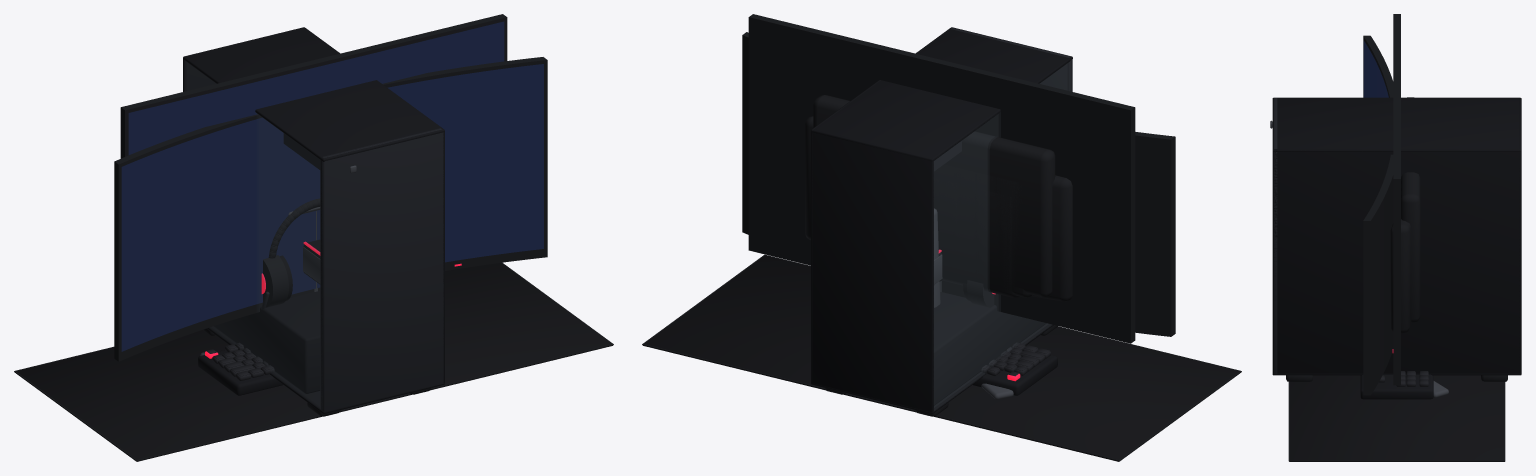
File: setup.glb
3 views of the same model, side by side, from view 1: azimuth 30°, elevation 25°; view 2: azimuth 150°, elevation 25°; view 3: azimuth 270°, elevation 25° (orthographic). The views are drawn at different scales.
Parts seen in each view (by area): view 1: pc_tower, monitor_34uw, desk_mat, monitor_32, keyboard, headset; view 2: pc_tower, monitor_32, desk_mat, monitor_27, monitor_34uw, monitor_24, keyboard, headset; view 3: pc_tower, desk_mat, monitor_34uw, monitor_32, keyboard.
Part boxes in pixels (<box>): pc_tower: <box>183,27,444,416</box>; monitor_34uw: <box>114,57,547,361</box>; desk_mat: <box>14,262,613,461</box>; monitor_32: <box>120,14,507,158</box>; keyboard: <box>198,342,282,395</box>; headset: <box>261,198,320,309</box>; pc_tower: <box>811,27,1072,416</box>; monitor_32: <box>748,14,1135,343</box>; desk_mat: <box>642,254,1241,461</box>; monitor_27: <box>778,62,1101,318</box>; monitor_34uw: <box>742,32,1175,336</box>; monitor_24: <box>795,85,1083,399</box>; keyboard: <box>973,342,1057,395</box>; headset: <box>940,280,995,307</box>; pc_tower: <box>1270,97,1521,381</box>; desk_mat: <box>1288,375,1505,461</box>; monitor_34uw: <box>1363,35,1411,395</box>; monitor_32: <box>1392,14,1420,385</box>; keyboard: <box>1360,371,1433,399</box>.
Bounding box in the file's own units: 0.9 × 0.5356 × 0.464.
